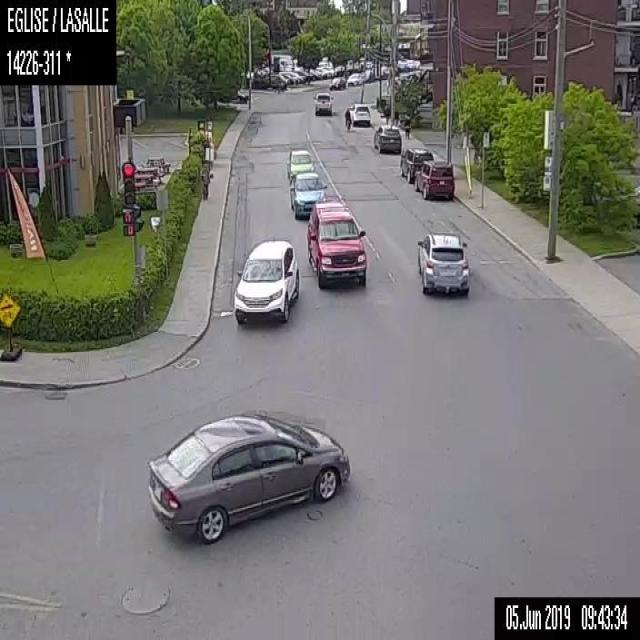cyclist: (344, 107, 352, 132)
pedestrian: (199, 162, 209, 202), (403, 116, 410, 140)
vehicle: (146, 412, 350, 547), (231, 236, 300, 325), (305, 198, 366, 289), (415, 230, 470, 298), (288, 171, 325, 218), (414, 160, 454, 200), (400, 146, 433, 183), (287, 148, 316, 181), (372, 124, 401, 153), (348, 102, 371, 126), (312, 91, 333, 116), (328, 76, 345, 90), (346, 72, 362, 85)
